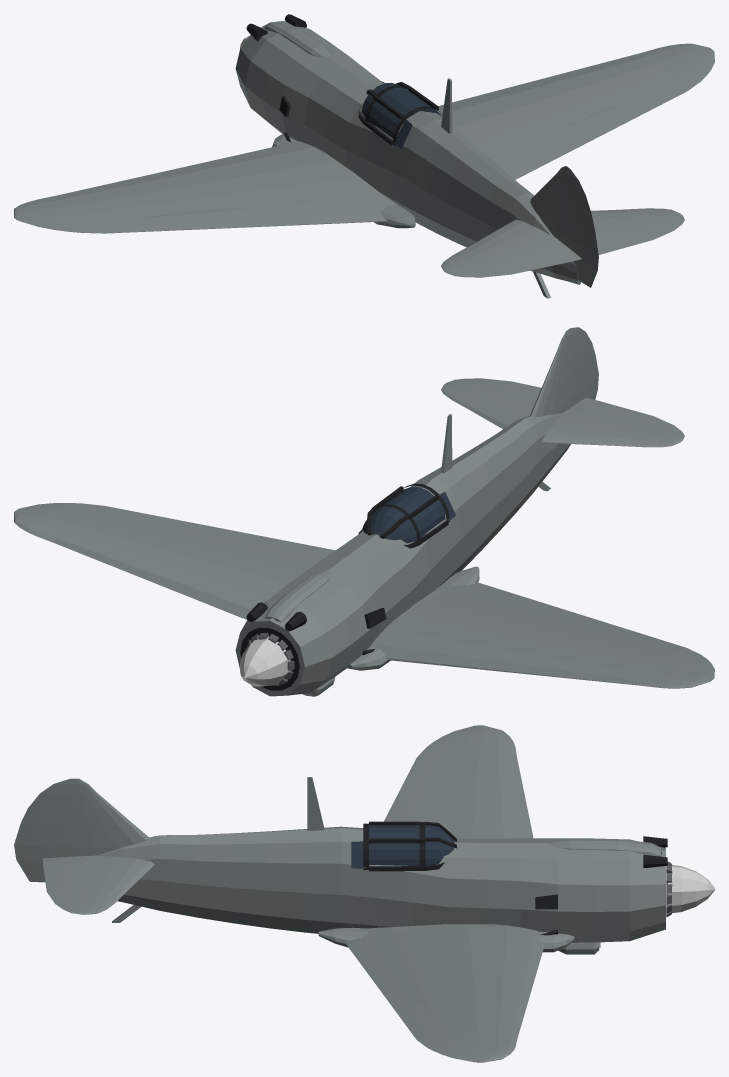
3 renders of one model, top to bottom at view 1: azimuth 30°, elevation 25°; view 2: azimuth 150°, elevation 25°; view 3: azimuth 270°, elevation 25°, orthographic.
Parts seen in each view (by area): view 1: Fuselage, Wing L, Wing R, Flap L, Flap R, Stabilizer L, Rudder, Elevator L, Aileron R, Cockpit Glass, Aileron L, Vertical Fin (+5 smaller); view 2: Fuselage, Wing L, Wing R, Stabilizer L, Cockpit Glass, Stabilizer R, Flap L, Vertical Fin, Flap R, Spinner, Rudder, Elevator L (+7 smaller); view 3: Fuselage, Wing R, Wing L, Rudder, Vertical Fin, Stabilizer R, Flap R, Cockpit Glass, Canopy Frame, Elevator R, Aileron L, Spinner (+5 smaller).
Boxes of the visible parts, x1,y1,x2,y2 form: Fuselage: (235,22,580,284); Wing L: (14,141,398,229); Wing R: (436,43,714,158); Flap L: (181,197,387,229); Flap R: (491,111,617,179); Stabilizer L: (441,219,560,272); Rudder: (565,168,598,287); Elevator L: (446,242,581,277); Aileron R: (608,62,711,123); Cockpit Glass: (362,82,441,138); Aileron L: (46,214,190,233); Vertical Fin: (530,166,568,244); Fuselage: (235,413,570,696); Wing L: (371,582,714,688); Wing R: (14,503,318,619); Stabilizer L: (542,409,681,447); Cockpit Glass: (362,487,445,543); Stabilizer R: (441,382,536,429); Flap L: (453,582,617,634); Vertical Fin: (530,329,572,417); Flap R: (182,523,335,561); Spinner: (240,637,290,686); Rudder: (569,327,598,406); Elevator L: (569,398,684,440); Fuselage: (97,826,665,942); Wing R: (344,924,544,1062); Wing L: (393,725,533,838); Rudder: (14,778,73,882); Vertical Fin: (74,778,148,856); Stabilizer R: (74,855,154,914); Flap R: (344,935,424,1007); Cockpit Glass: (369,825,454,865); Canopy Frame: (363,821,456,871); Elevator R: (43,856,82,914); Aileron L: (395,735,458,800); Spinner: (667,865,714,912).
Bounding box in the file's own units: 9.82 × 2.37 × 8.64.
